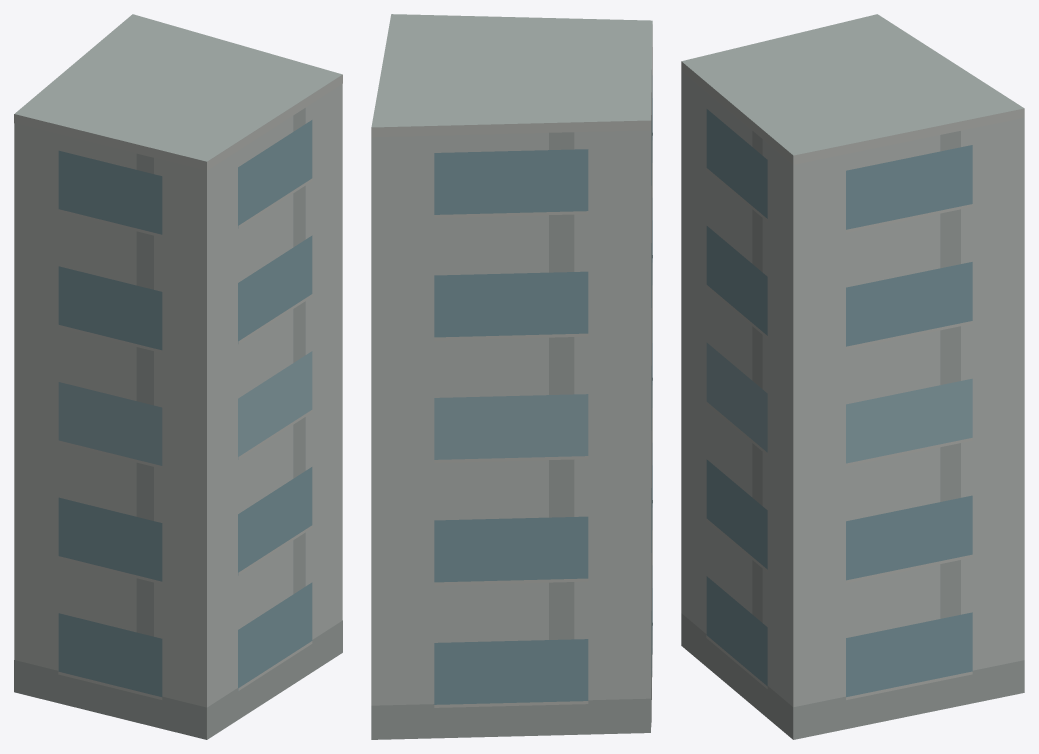
The model's file is survey-upis-32863892.glb.
3 renders of one model, left to right at view 1: azimuth 30°, elevation 25°; view 2: azimuth 150°, elevation 25°; view 3: azimuth 270°, elevation 25°, orthographic. The views are drawn at different scales.
Parts seen in each view (by area): view 1: survey-upis-32863892.tmp; view 2: survey-upis-32863892.tmp; view 3: survey-upis-32863892.tmp.
Part boxes in pixels (left/top/right/bottom): survey-upis-32863892.tmp: left=14, top=14, right=342, bottom=739; survey-upis-32863892.tmp: left=371, top=14, right=652, bottom=739; survey-upis-32863892.tmp: left=681, top=14, right=1024, bottom=739.
Size of the model in its own units: 7.9 by 15.2 by 8.1.
